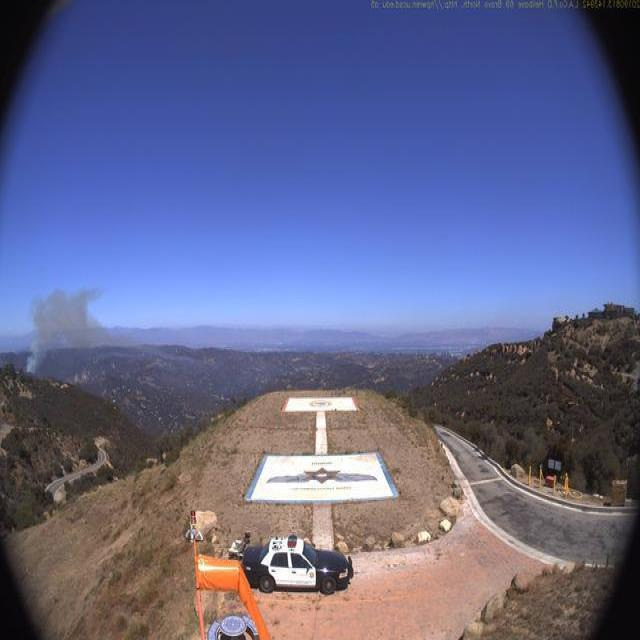smoke: (28, 277, 120, 380)
